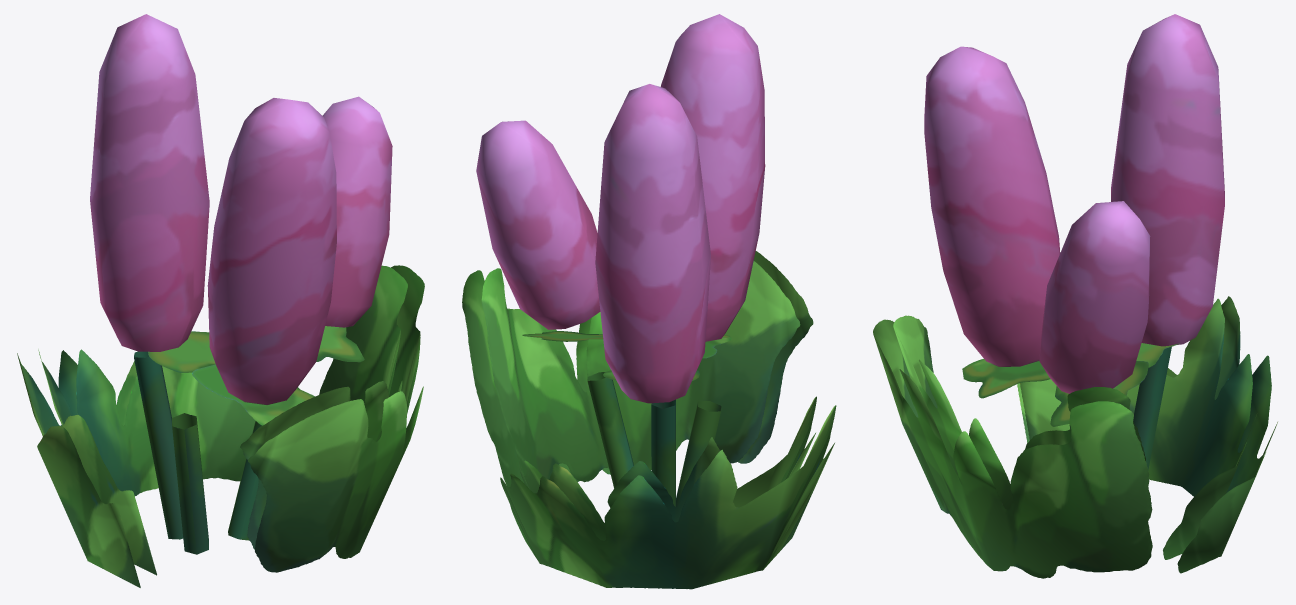
The picture shows the model from 3 angles, left to right: view 1: azimuth 30°, elevation 25°; view 2: azimuth 150°, elevation 25°; view 3: azimuth 270°, elevation 25°; orthographic projection. The views are drawn at different scales.
Visible parts, largest first — view 1: SM_F3ab; view 2: SM_F3ab; view 3: SM_F3ab.
Part boxes in pixels (box(x1,y1,x2,y2)): SM_F3ab: box(17, 14, 424, 587); SM_F3ab: box(462, 14, 836, 589); SM_F3ab: box(873, 14, 1277, 578).
Size of the model in its own units: 132 by 173 by 128.
Materials: 1 (1 with a texture image).
